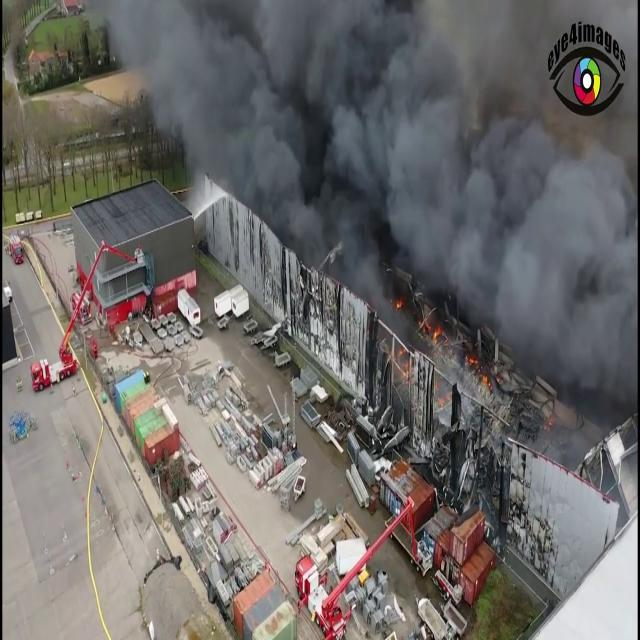Smoke: (117, 1, 636, 312)
